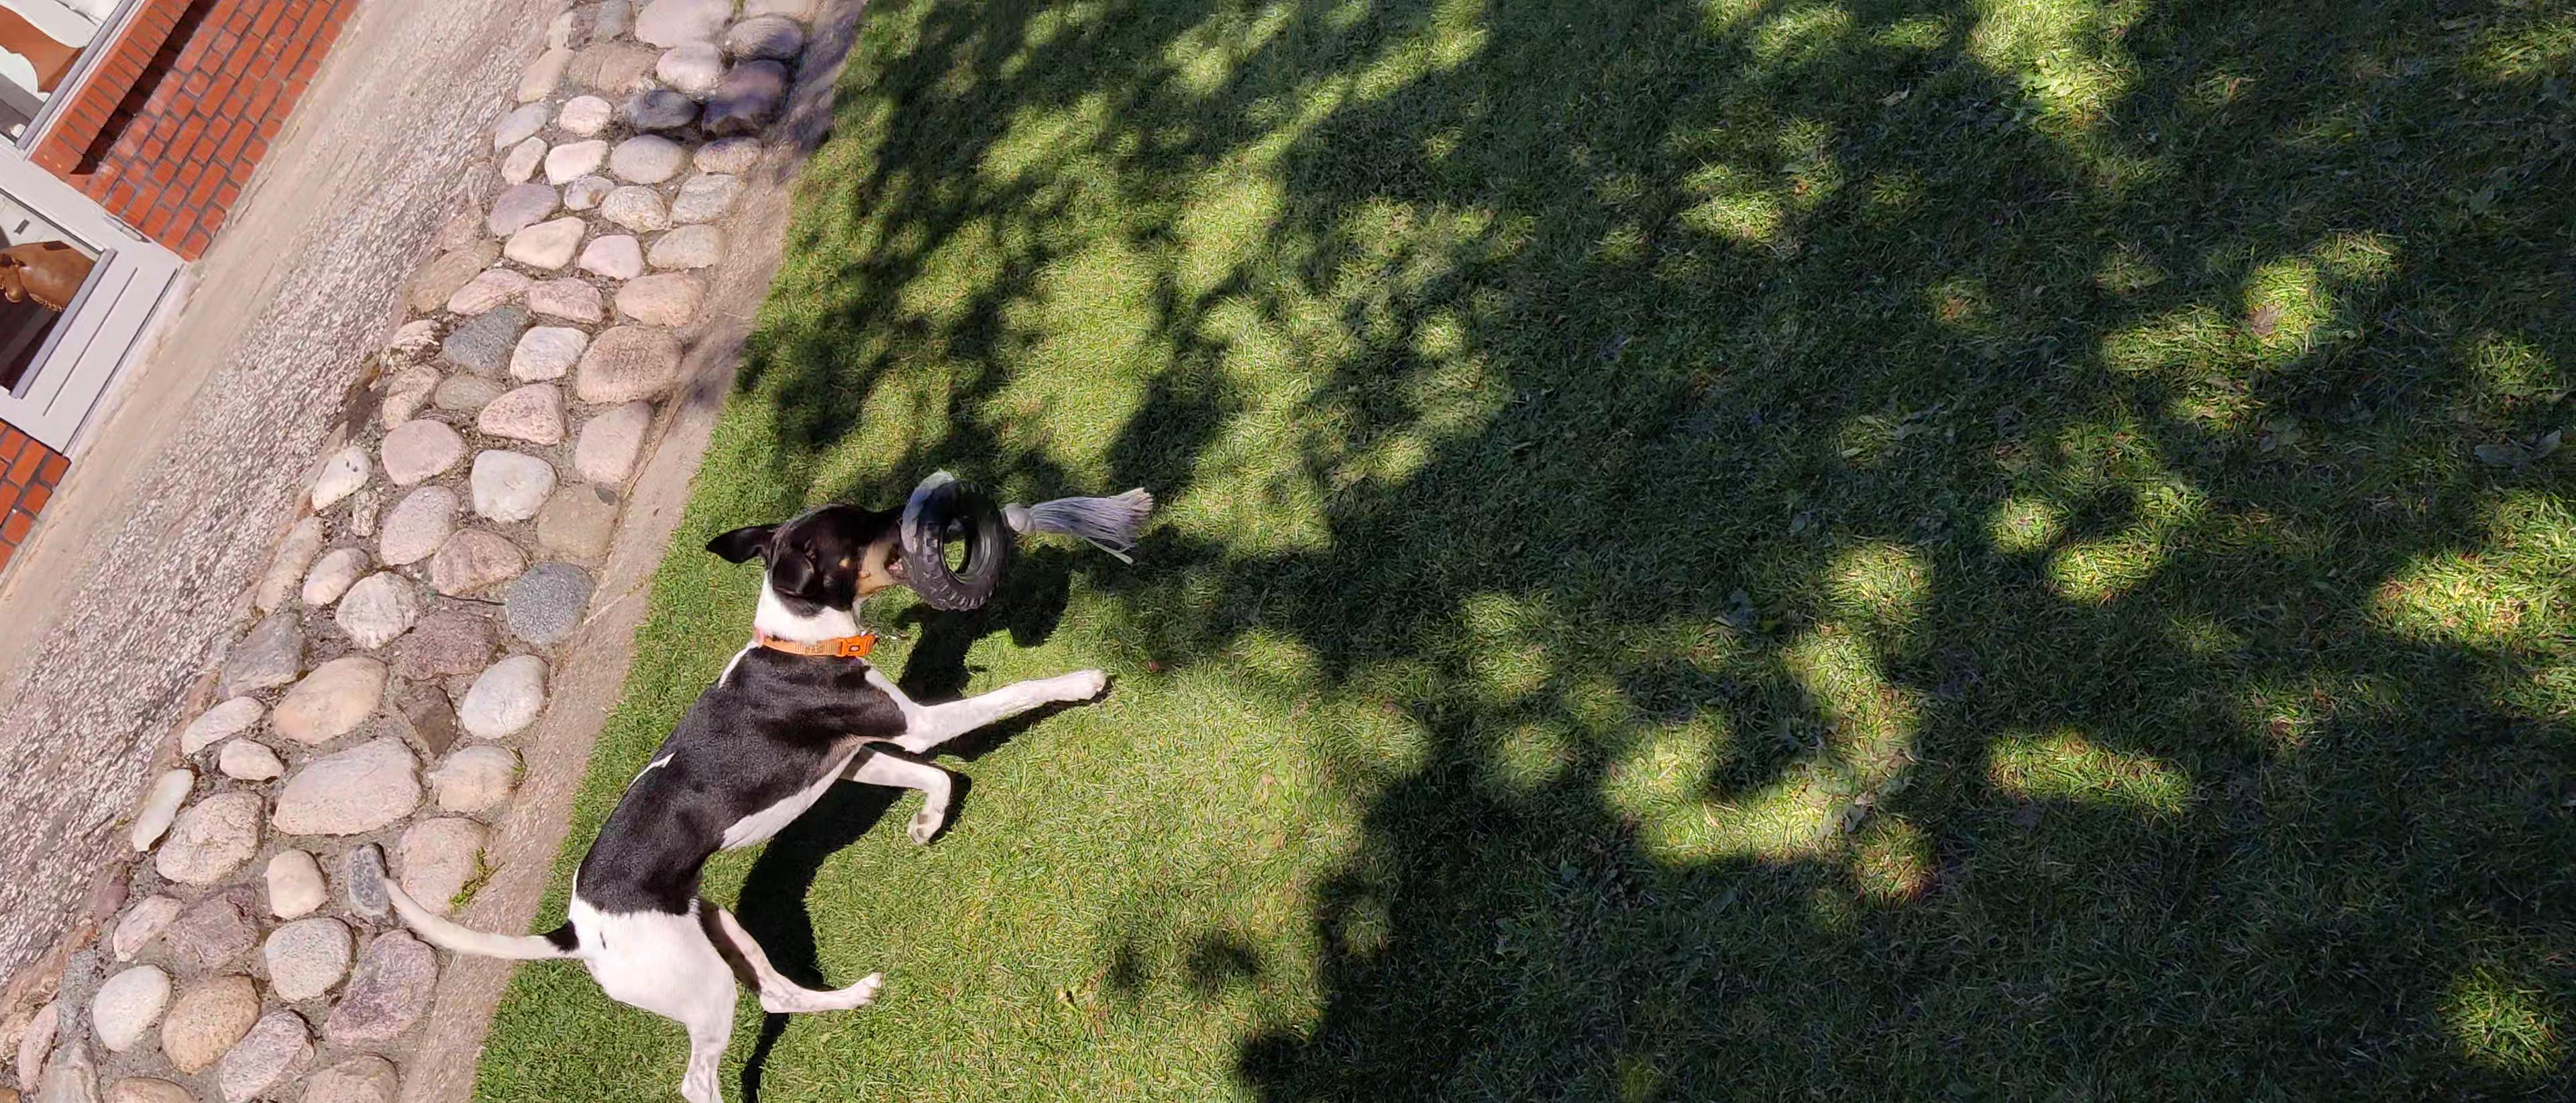Dog: (376, 493, 1112, 1103)
